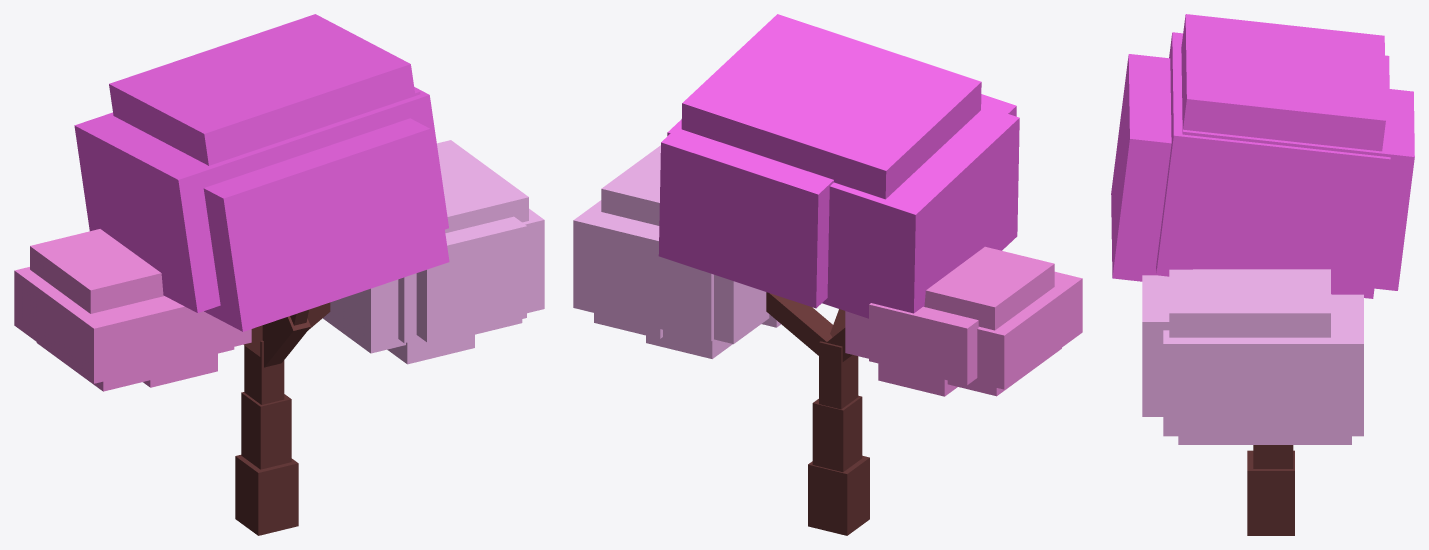
File: tree-sakura.glb
The picture shows the model from 3 angles, left to right: view 1: azimuth 30°, elevation 25°; view 2: azimuth 150°, elevation 25°; view 3: azimuth 270°, elevation 25°; orthographic projection. The views are drawn at different scales.
Parts seen in each view (by area): view 1: cube (×16); view 2: cube (×17); view 3: cube (×10).
Boxes of the visible parts, <box> form: cube (×16): <box>14,14,544,535</box>; cube (×17): <box>573,14,1082,535</box>; cube (×10): <box>1111,14,1414,535</box>.
Bounding box in the file's own units: 2.72 × 2.76 × 1.59.
Materials: 5 (4 with a texture image).
